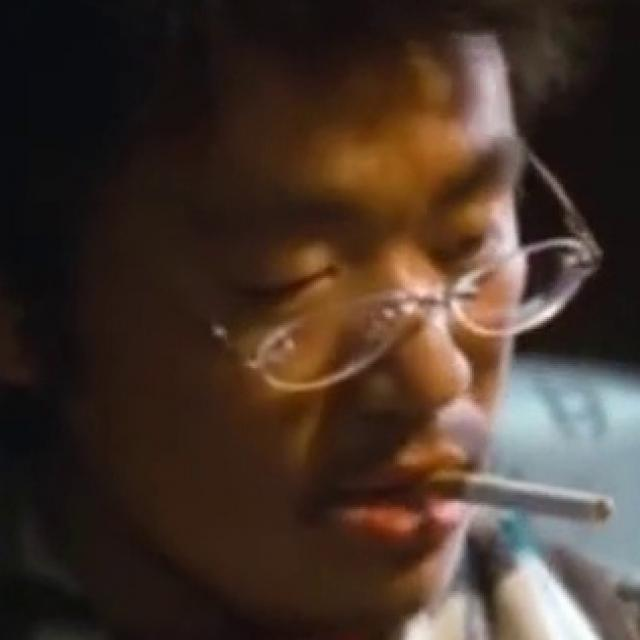smoking: (412, 469, 612, 532)
